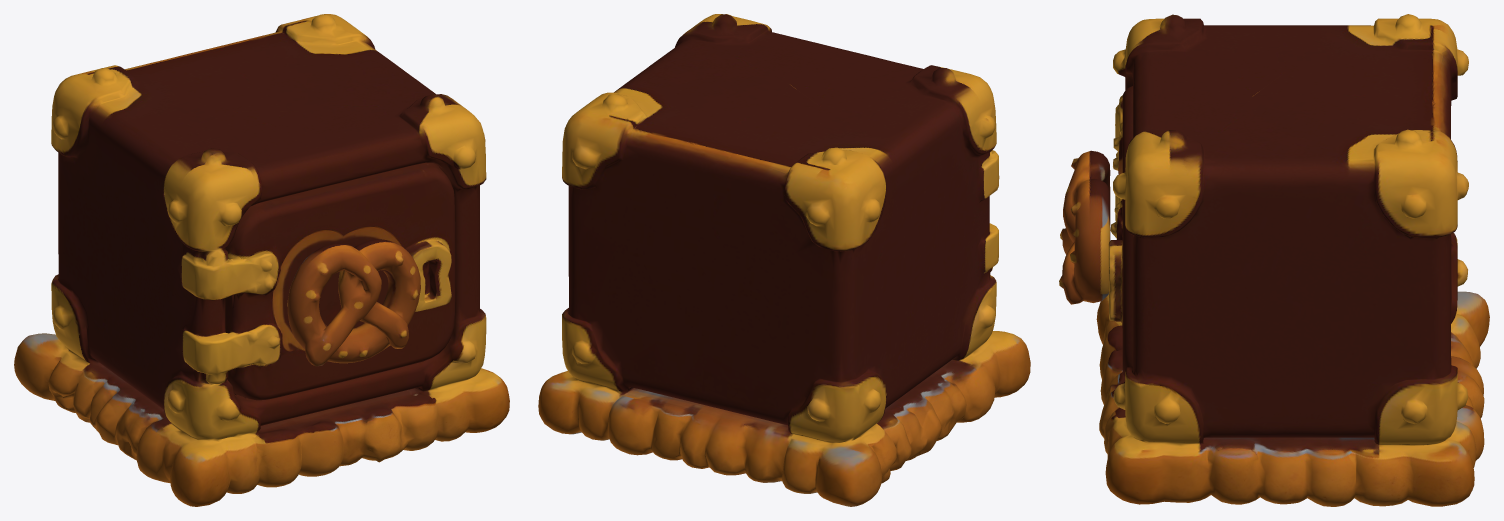
File: prop-treasure-chest.glb
3 views of the same model, side by side, from view 1: azimuth 30°, elevation 25°; view 2: azimuth 150°, elevation 25°; view 3: azimuth 270°, elevation 25° (orthographic). The views are drawn at different scales.
Parts seen in each view (by area): view 1: tripo_node_a2ade100-f6f6-4f45-b54d-c0e76e329fc6; view 2: tripo_node_a2ade100-f6f6-4f45-b54d-c0e76e329fc6; view 3: tripo_node_a2ade100-f6f6-4f45-b54d-c0e76e329fc6.
Part boxes in pixels (x1=…): tripo_node_a2ade100-f6f6-4f45-b54d-c0e76e329fc6: x1=14, y1=14, x2=509, y2=506; tripo_node_a2ade100-f6f6-4f45-b54d-c0e76e329fc6: x1=538, y1=14, x2=1030, y2=506; tripo_node_a2ade100-f6f6-4f45-b54d-c0e76e329fc6: x1=1059, y1=14, x2=1489, y2=506.
Size of the model in its own units: 0.9658 by 0.9178 by 1.
Materials: 1 (1 with a texture image).
